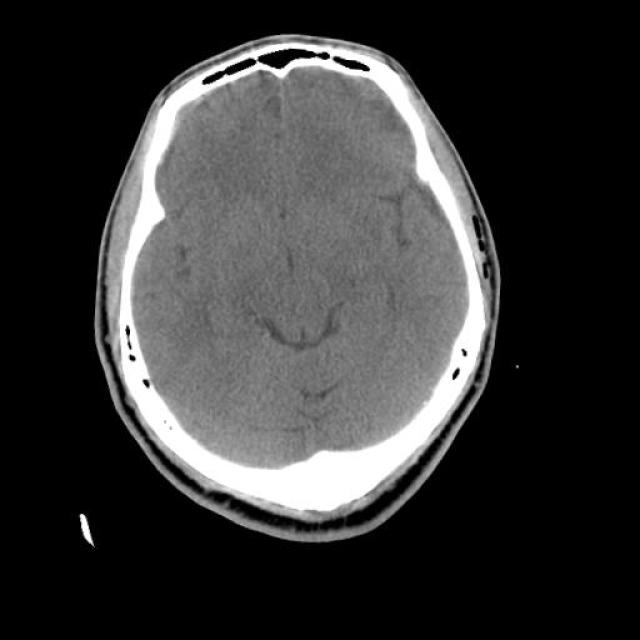Subdural: (132, 72, 213, 182)
